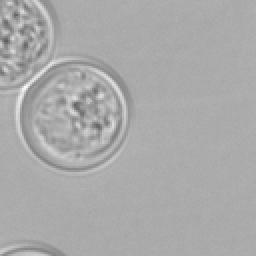picoshell: (16, 60, 130, 172)
